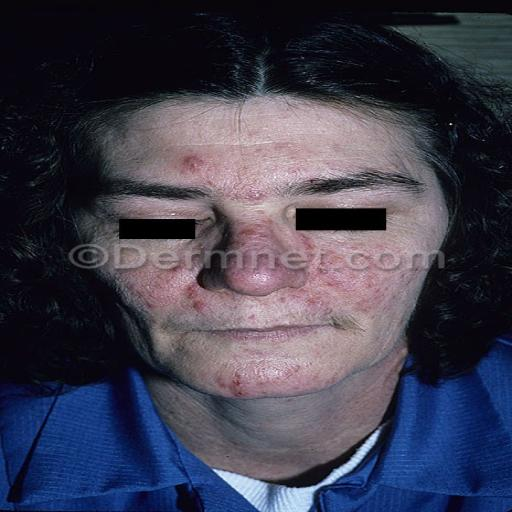Skin_Lesion: (31, 382, 165, 509), (184, 472, 271, 510), (118, 264, 168, 316), (226, 218, 266, 248), (220, 360, 250, 397), (178, 144, 204, 180), (241, 184, 273, 209), (307, 490, 332, 512), (184, 295, 208, 314), (306, 263, 337, 277), (375, 276, 393, 298), (302, 232, 318, 254), (189, 251, 205, 264)
